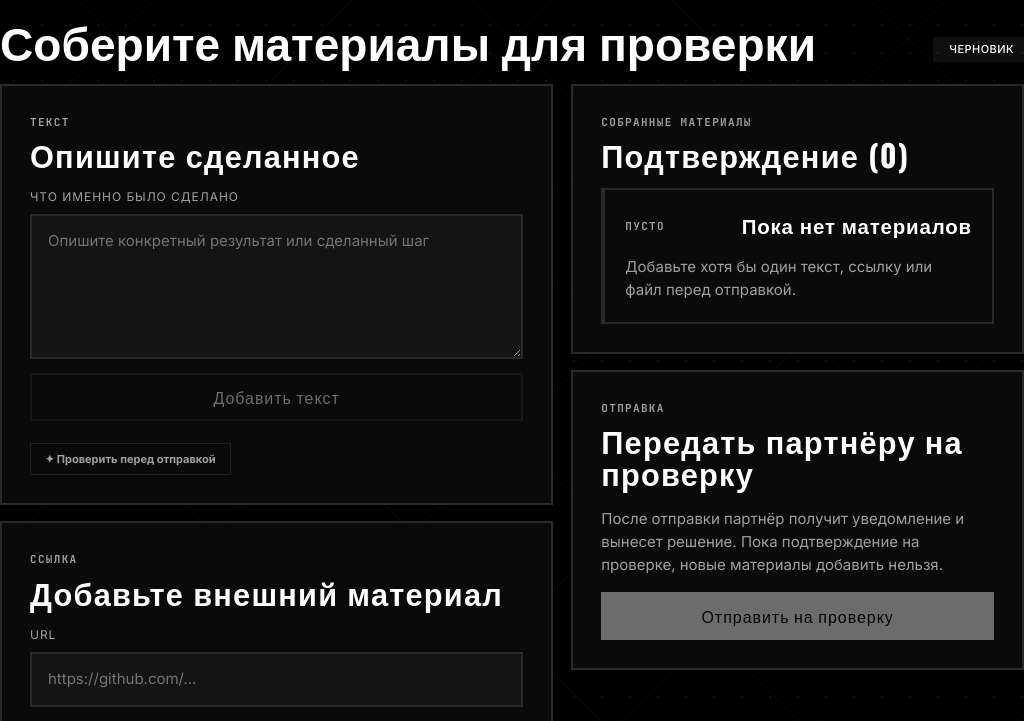
Test: CheckInScreen › adds link evidence and shows it in the list
Expected: the button "Отправить на проверку" is shown, [601,592,994,640]
Type "https://github.com/pr/123" into the field with placeholder "https://github.com/...".
click(277, 679); type("https://github.com/pr/123")  # box [30,652,523,707]
(page scrolled)
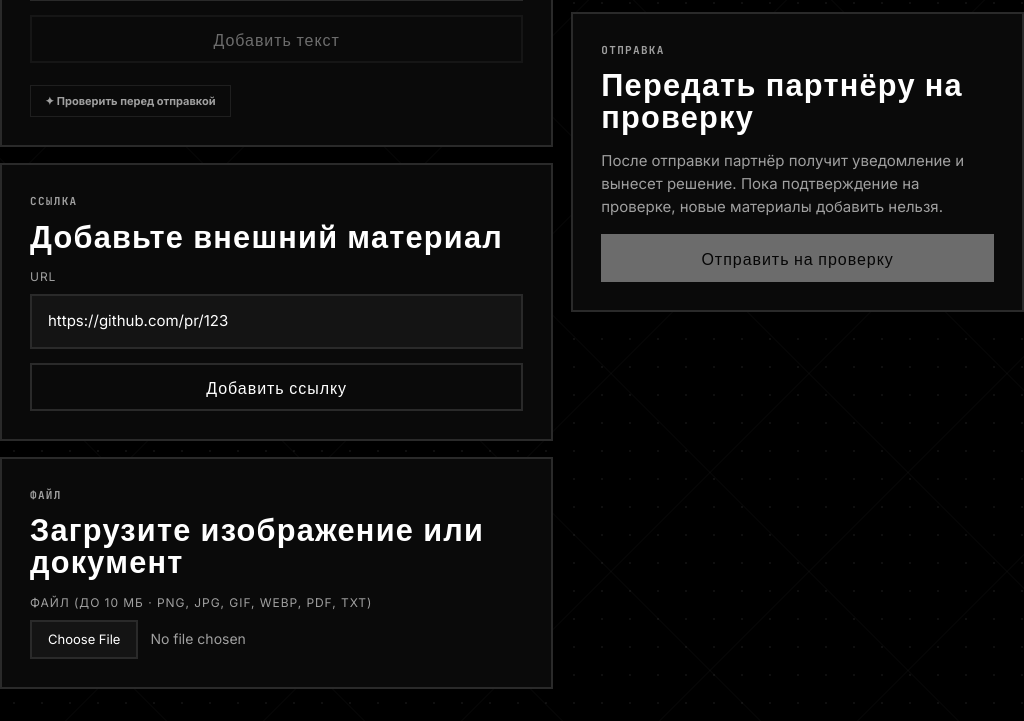
Submit the form "Добавить ссылку", box [30,268,523,411]
(page scrolled)
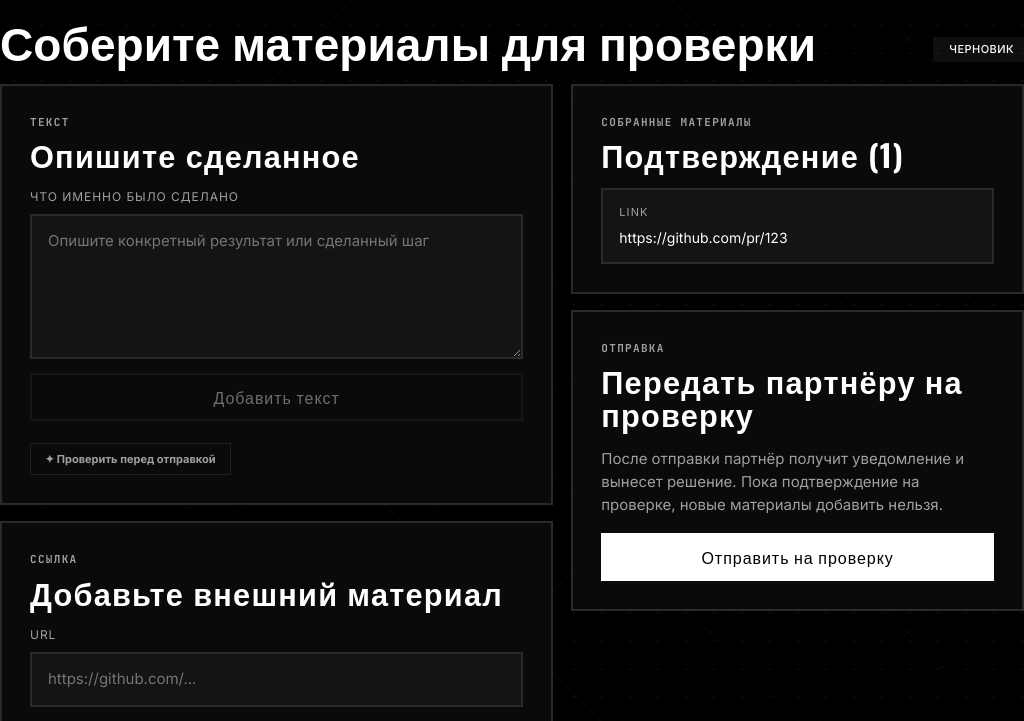
Result: the link "https://github.com/pr/123" is shown at [619,229,788,246]
